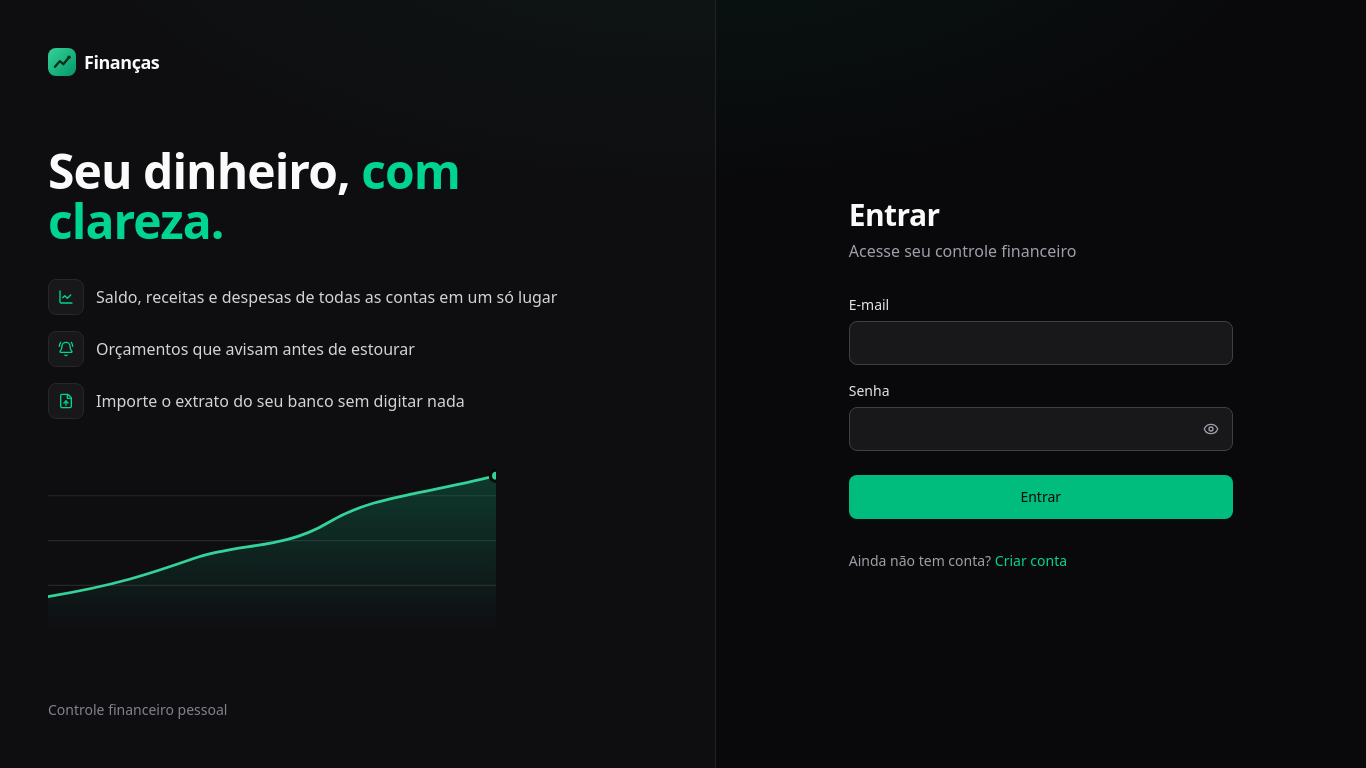
Test: LoginPage › requires both fields
The image size is (1366, 768).
Click the button "Entrar": (1041, 497) [849,475,1233,519]
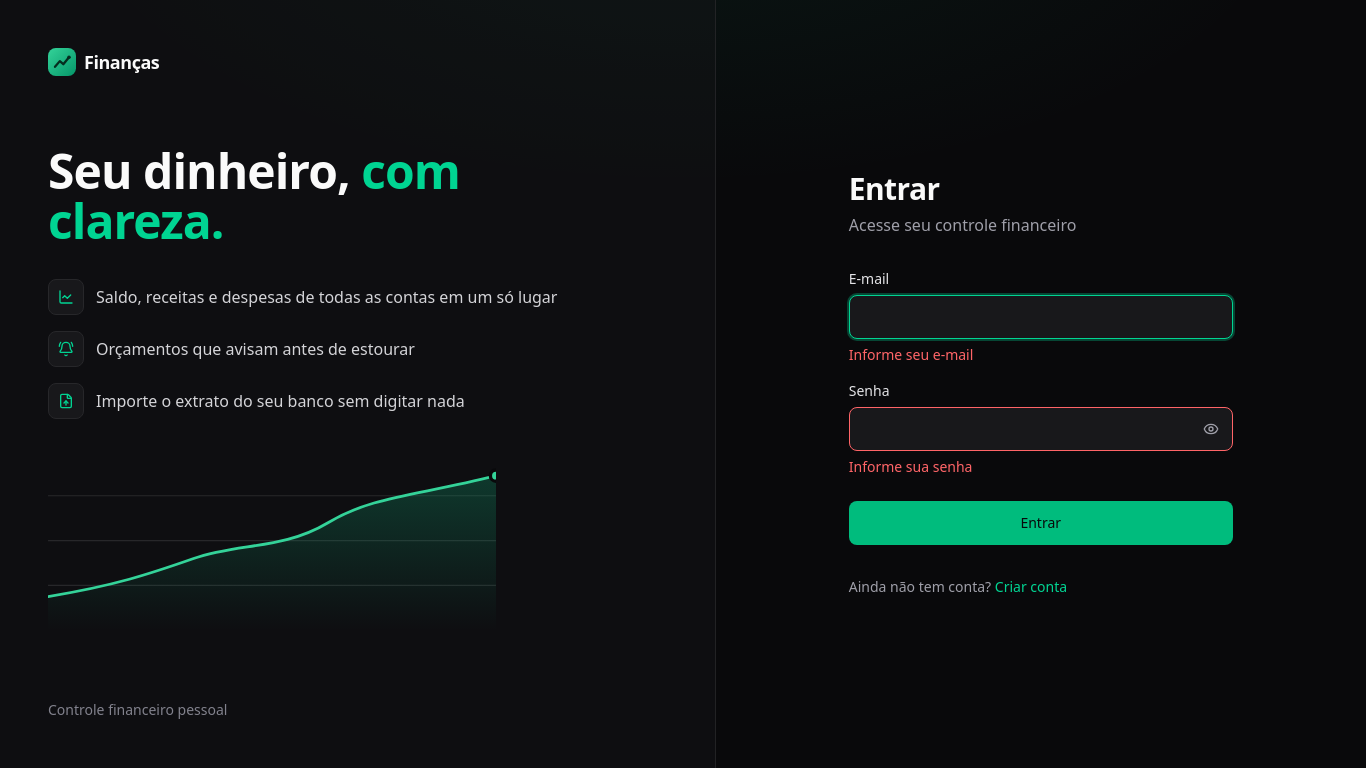
Check: the text "Informe seu e-mail" is shown, box [849,345,973,364]
Check: the text "Informe sua senha" is shown, box [849,457,972,476]
